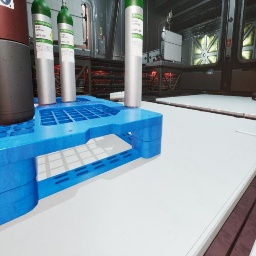0: (31, 0, 56, 105), (124, 0, 143, 108), (57, 0, 76, 103), (110, 91, 124, 102)
EmergencyPhone ,: (99, 25, 102, 36)
FireAlarm ,: (227, 39, 231, 47), (103, 36, 105, 43)
FireExtinguisher ]: (251, 91, 256, 100)
FirstAidBox ,: (153, 55, 162, 62), (162, 57, 173, 62)
NitrogenTank ,: (0, 0, 35, 126)
